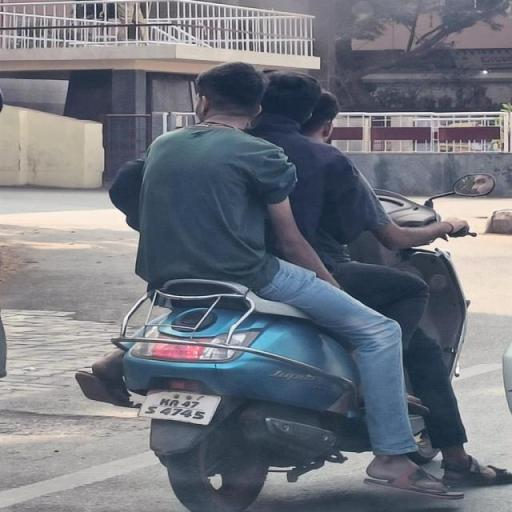tripple riding: (109, 62, 428, 279)
